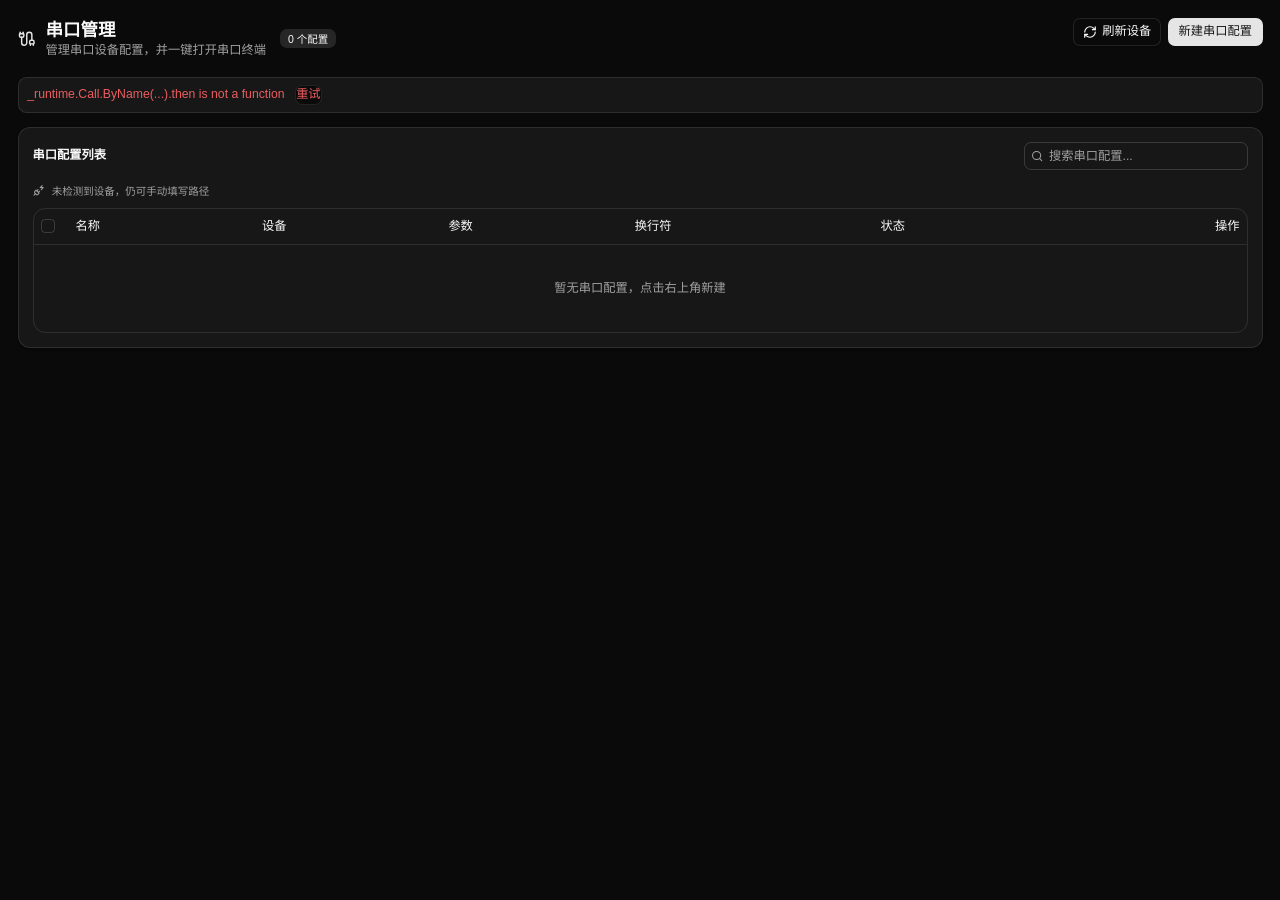
SerialPortCenter › opens create dialog from header action
Expected: the heading "串口管理" is shown, [46,20,116,40]
Click the button "新建串口配置": (1215, 32) [1168,18,1262,46]
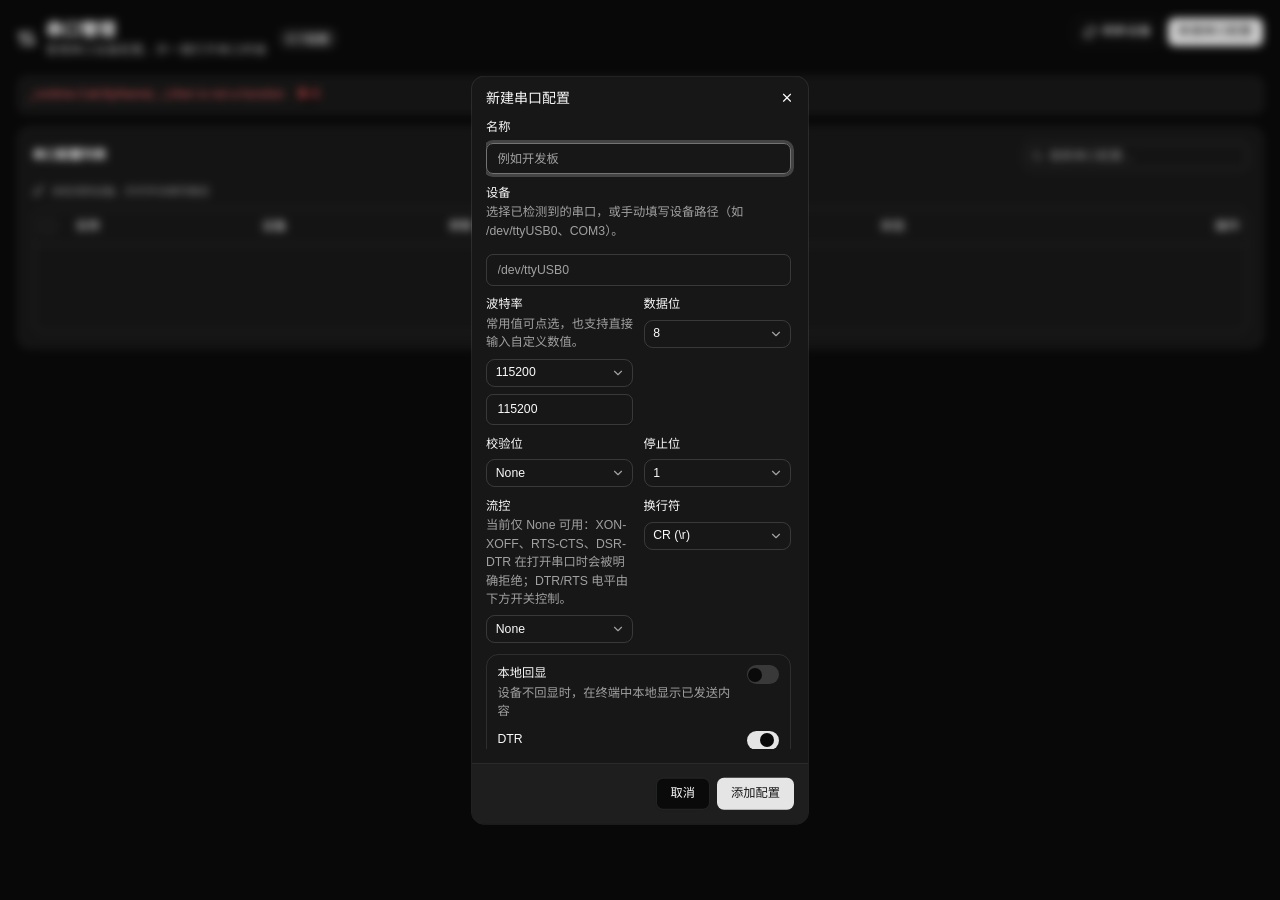
Expected: the heading "新建串口配置" is shown, [486,90,570,106]
